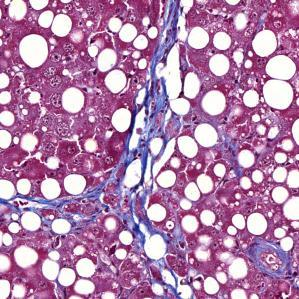fibrosis: (122, 94, 175, 180), (76, 193, 165, 244)
